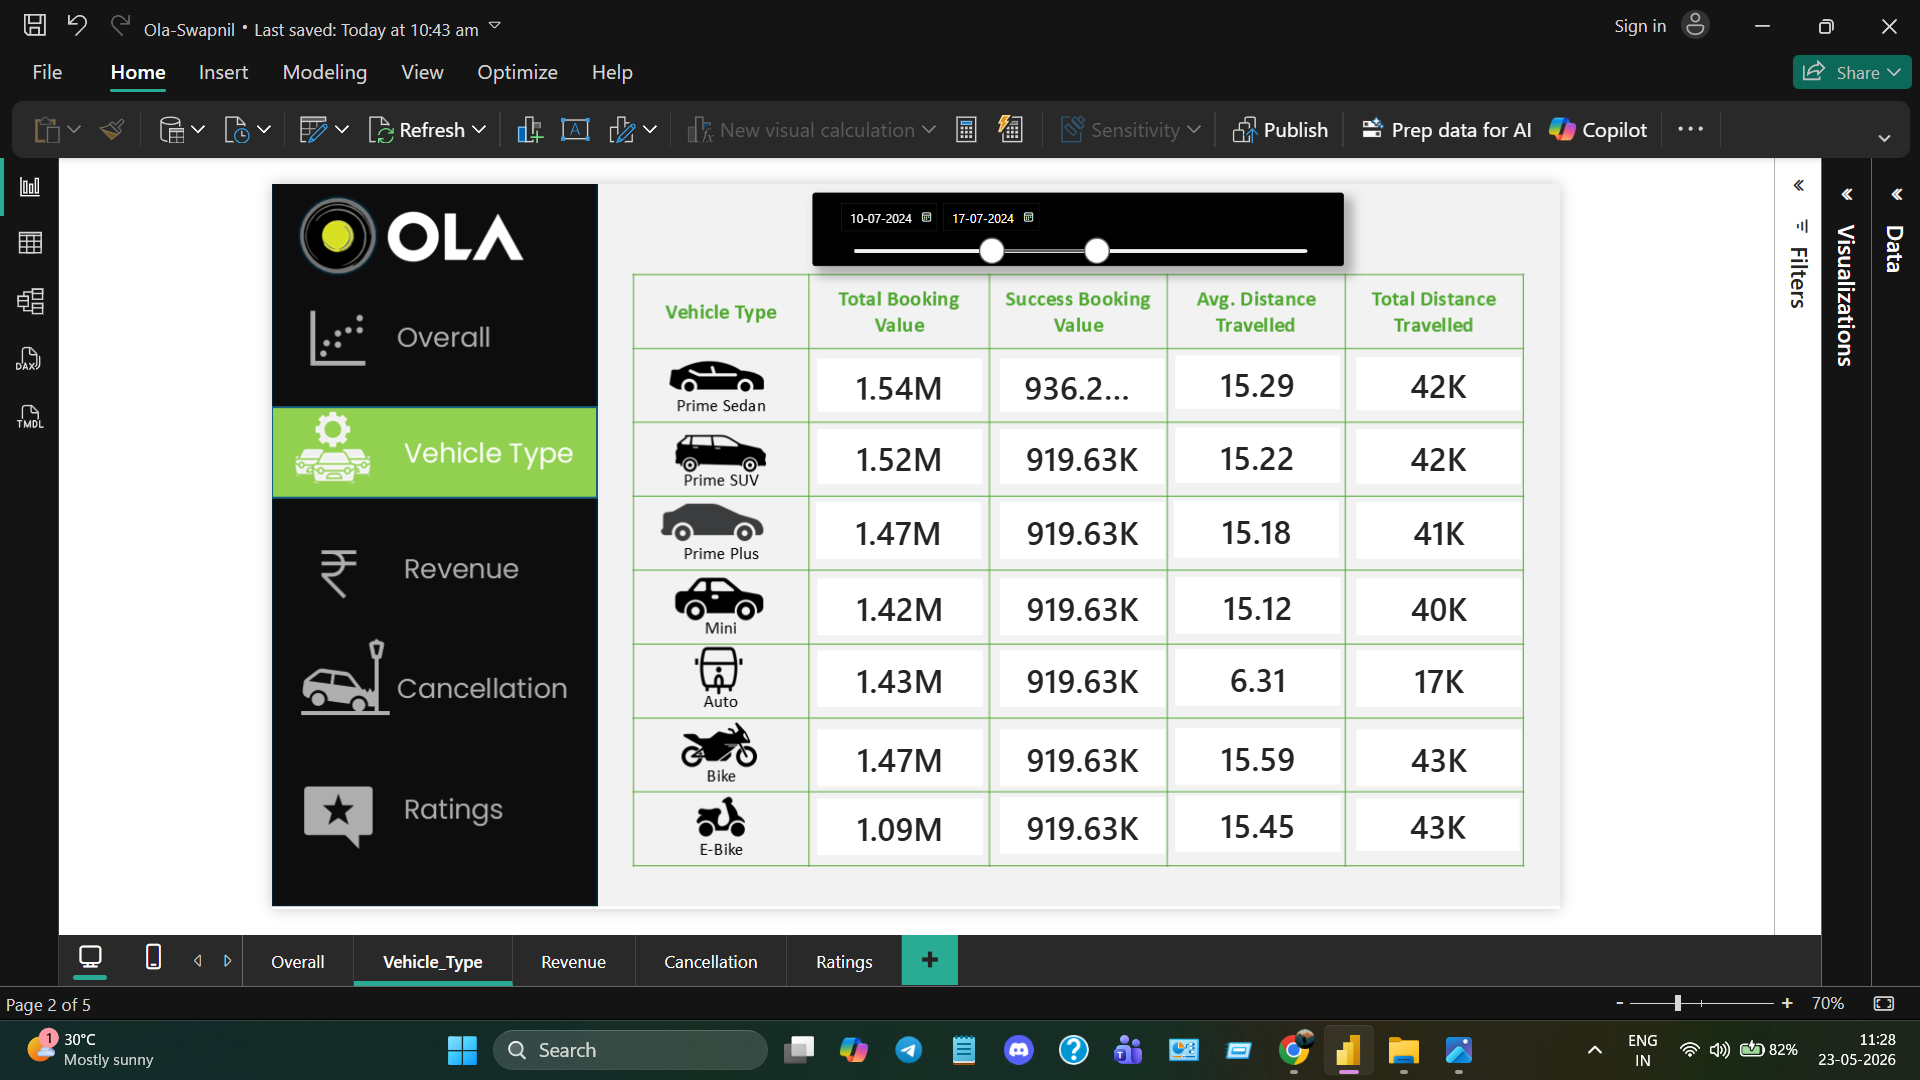

What the dashboard file says about the page in this screenshot:
{"tool":"powerbi","page":{"name":"Vehicle_Type","canvas":[1280,720],"ordinal":1},"visuals":[{"type":"actionButton","box":[0,222,322,89.8],"z":0},{"type":"actionButton","box":[0,337.3,322,89.8],"z":1000},{"type":"actionButton","box":[0,447.5,322,89.8],"z":2000},{"type":"actionButton","box":[0,581.4,322,89.8],"z":3000},{"type":"actionButton","box":[0,110.2,322,89.8],"z":4000},{"type":"cardVisual","fields":{"Data":["Sum(July.Booking_Value)"]},"box":[536.8,168.4,173.7,63.2],"z":5000},{"type":"cardVisual","fields":{"Data":["Sum(July.Booking_Value)"]},"box":[536.9,238.8,173.1,65.6],"z":6000},{"type":"cardVisual","fields":{"Data":["Sum(July.Booking_Value)"]},"box":[536,312,174,66],"z":7000},{"type":"cardVisual","fields":{"Data":["Sum(July.Booking_Value)"]},"box":[536.7,387.6,174.3,66.2],"z":8000},{"type":"cardVisual","fields":{"Data":["Sum(July.Booking_Value)"]},"box":[536.7,459,174.3,66.2],"z":9000},{"type":"cardVisual","fields":{"Data":["Sum(July.Booking_Value)"]},"box":[536.7,537.6,174.3,66.2],"z":10000},{"type":"cardVisual","fields":{"Data":["Sum(July.Booking_Value)"]},"box":[536.7,605.2,174.3,66.2],"z":11000},{"type":"cardVisual","fields":{"Data":["Sum(July.Booking_Value)"]},"box":[719,168,173.7,63.2],"z":12000},{"type":"cardVisual","fields":{"Data":["Sum(July.Booking_Value)"]},"box":[719,238.3,173.1,65.6],"z":13000},{"type":"cardVisual","fields":{"Data":["Sum(July.Booking_Value)"]},"box":[718.2,311.6,174,66],"z":14000},{"type":"cardVisual","fields":{"Data":["Sum(July.Booking_Value)"]},"box":[718.8,387.2,174.3,66.2],"z":15000},{"type":"cardVisual","fields":{"Data":["Sum(July.Booking_Value)"]},"box":[718.8,458.6,174.3,66.2],"z":16000},{"type":"cardVisual","fields":{"Data":["Sum(July.Booking_Value)"]},"box":[718.8,537.2,174.3,66.2],"z":17000},{"type":"cardVisual","fields":{"Data":["Sum(July.Booking_Value)"]},"box":[718.8,604.8,174.3,66.2],"z":18000},{"type":"cardVisual","fields":{"Data":["Avg(July.Ride_Distance)"]},"box":[892.9,166.2,173.7,63.2],"z":19000},{"type":"cardVisual","fields":{"Data":["Avg(July.Ride_Distance)"]},"box":[893,236.6,173.1,65.6],"z":20000},{"type":"cardVisual","fields":{"Data":["Avg(July.Ride_Distance)"]},"box":[892.1,309.8,174,66],"z":21000},{"type":"cardVisual","fields":{"Data":["Avg(July.Ride_Distance)"]},"box":[892.8,385.4,174.3,66.2],"z":22000},{"type":"cardVisual","fields":{"Data":["Avg(July.Ride_Distance)"]},"box":[892.8,456.9,174.3,66.2],"z":23000},{"type":"cardVisual","fields":{"Data":["Avg(July.Ride_Distance)"]},"box":[892.8,535.4,174.3,66.2],"z":24000},{"type":"cardVisual","fields":{"Data":["Avg(July.Ride_Distance)"]},"box":[892.8,603.1,174.3,66.2],"z":25000},{"type":"cardVisual","fields":{"Data":["Sum(July.Ride_Distance)"]},"box":[1073.4,167.6,173.7,63.2],"z":26000},{"type":"cardVisual","fields":{"Data":["Sum(July.Ride_Distance)"]},"box":[1073.4,237.9,173.1,65.6],"z":27000},{"type":"cardVisual","fields":{"Data":["Sum(July.Ride_Distance)"]},"box":[1072.5,311.1,174,66],"z":28000},{"type":"cardVisual","fields":{"Data":["Sum(July.Ride_Distance)"]},"box":[1073.2,386.7,174.3,66.2],"z":29000},{"type":"cardVisual","fields":{"Data":["Sum(July.Ride_Distance)"]},"box":[1073.2,458.2,174.3,66.2],"z":30000},{"type":"cardVisual","fields":{"Data":["Sum(July.Ride_Distance)"]},"box":[1073.2,536.7,174.3,66.2],"z":31000},{"type":"cardVisual","fields":{"Data":["Sum(July.Ride_Distance)"]},"box":[1072.5,605,172.5,62.5],"z":32000},{"type":"slicer","title":"Date","fields":{"Values":["July.Date"]},"box":[536.7,8.3,528.3,73.3],"z":33000}]}

Visuals, with their boxes on the page's 1280x720 design canvas (x1, y1, x2, y2). These are canvas units, not pixel positions in the 1920x1080 screenshot, which may show the page scaled, cropped or inside an application window:
actionButton: (left=0, top=222, right=322, bottom=312)
actionButton: (left=0, top=337, right=322, bottom=427)
actionButton: (left=0, top=448, right=322, bottom=537)
actionButton: (left=0, top=581, right=322, bottom=671)
actionButton: (left=0, top=110, right=322, bottom=200)
cardVisual - Sum(July.Booking_Value): (left=537, top=168, right=710, bottom=232)
cardVisual - Sum(July.Booking_Value): (left=537, top=239, right=710, bottom=304)
cardVisual - Sum(July.Booking_Value): (left=536, top=312, right=710, bottom=378)
cardVisual - Sum(July.Booking_Value): (left=537, top=388, right=711, bottom=454)
cardVisual - Sum(July.Booking_Value): (left=537, top=459, right=711, bottom=525)
cardVisual - Sum(July.Booking_Value): (left=537, top=538, right=711, bottom=604)
cardVisual - Sum(July.Booking_Value): (left=537, top=605, right=711, bottom=671)
cardVisual - Sum(July.Booking_Value): (left=719, top=168, right=893, bottom=231)
cardVisual - Sum(July.Booking_Value): (left=719, top=238, right=892, bottom=304)
cardVisual - Sum(July.Booking_Value): (left=718, top=312, right=892, bottom=378)
cardVisual - Sum(July.Booking_Value): (left=719, top=387, right=893, bottom=453)
cardVisual - Sum(July.Booking_Value): (left=719, top=459, right=893, bottom=525)
cardVisual - Sum(July.Booking_Value): (left=719, top=537, right=893, bottom=603)
cardVisual - Sum(July.Booking_Value): (left=719, top=605, right=893, bottom=671)
cardVisual - Avg(July.Ride_Distance): (left=893, top=166, right=1067, bottom=229)
cardVisual - Avg(July.Ride_Distance): (left=893, top=237, right=1066, bottom=302)
cardVisual - Avg(July.Ride_Distance): (left=892, top=310, right=1066, bottom=376)
cardVisual - Avg(July.Ride_Distance): (left=893, top=385, right=1067, bottom=452)
cardVisual - Avg(July.Ride_Distance): (left=893, top=457, right=1067, bottom=523)
cardVisual - Avg(July.Ride_Distance): (left=893, top=535, right=1067, bottom=602)
cardVisual - Avg(July.Ride_Distance): (left=893, top=603, right=1067, bottom=669)
cardVisual - Sum(July.Ride_Distance): (left=1073, top=168, right=1247, bottom=231)
cardVisual - Sum(July.Ride_Distance): (left=1073, top=238, right=1246, bottom=304)
cardVisual - Sum(July.Ride_Distance): (left=1072, top=311, right=1246, bottom=377)
cardVisual - Sum(July.Ride_Distance): (left=1073, top=387, right=1248, bottom=453)
cardVisual - Sum(July.Ride_Distance): (left=1073, top=458, right=1248, bottom=524)
cardVisual - Sum(July.Ride_Distance): (left=1073, top=537, right=1248, bottom=603)
cardVisual - Sum(July.Ride_Distance): (left=1072, top=605, right=1245, bottom=668)
"Date" slicer: (left=537, top=8, right=1065, bottom=82)
